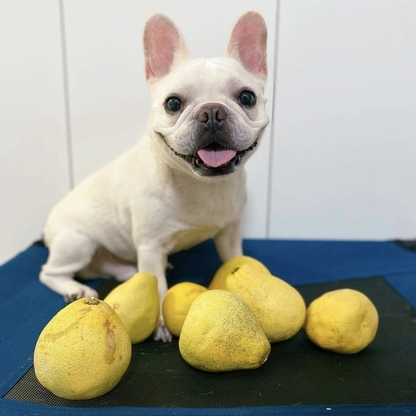bulldog: (37, 8, 275, 346)
